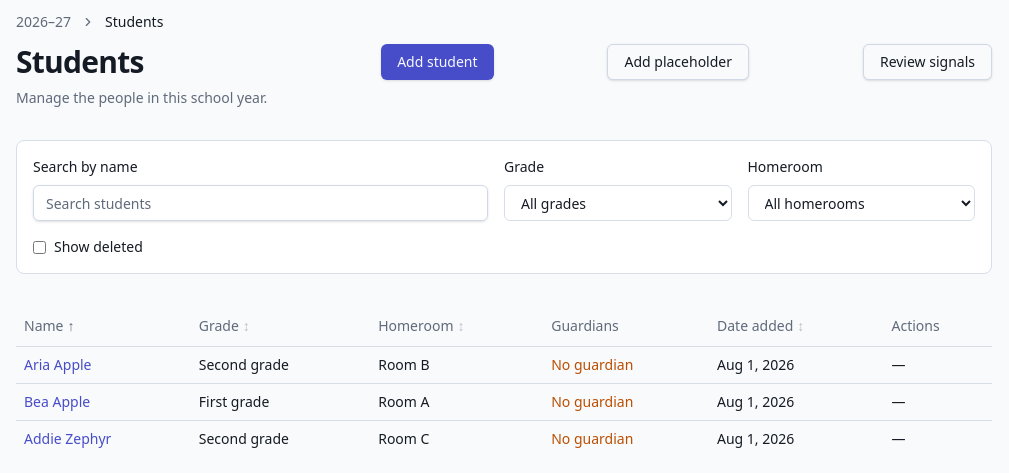
Test: people roster pages › filters students by search, grade, and homeroom
Expected: the table named "Students" is shown, [16,306,992,456]
Type "aria" into the field labelled "Search by name".
click(260, 203); type("aria")  # box [33,185,488,221]
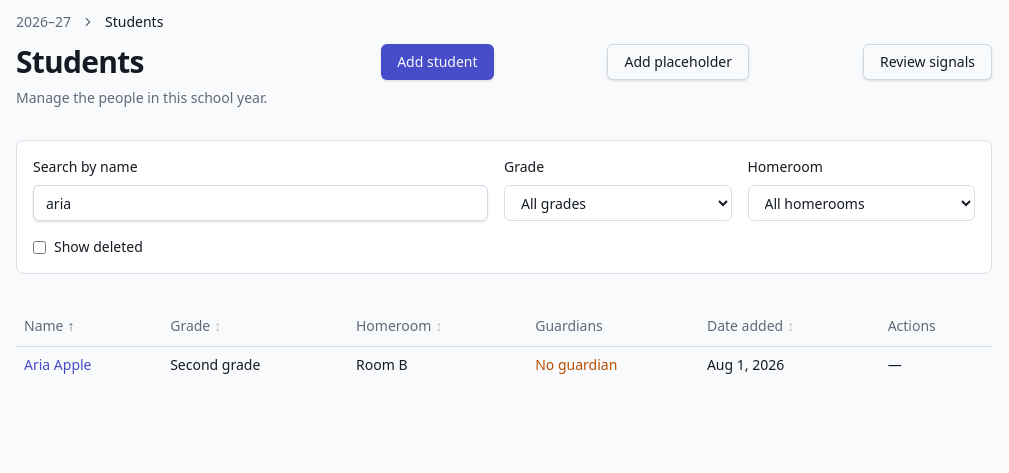
Expected: the link "Aria Apple" is shown, [24,354,92,374]
Expected: the link "Bea Apple" is gone
Clear the field labelled "Search by name" at (260, 203), box [33,185,488,221]
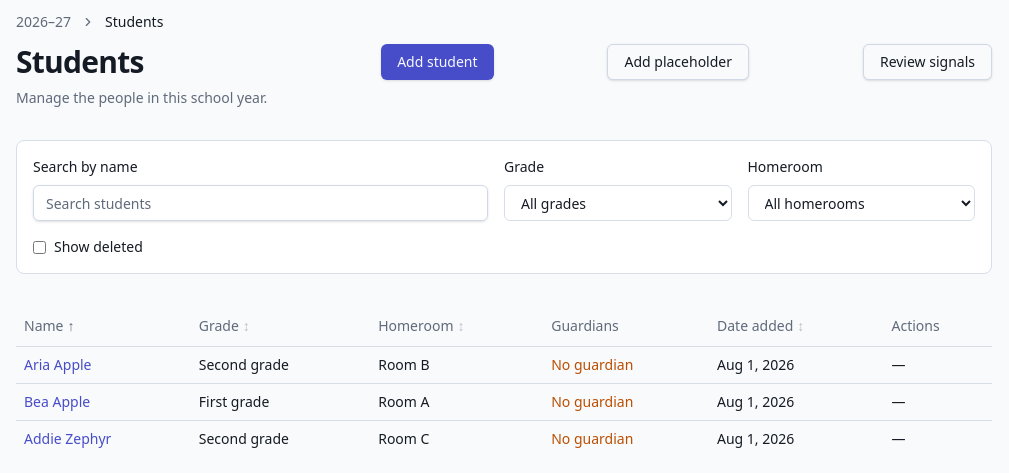
Select "Second grade" in the dropdown labelled "Grade" at (618, 203), box [504,185,732,221]
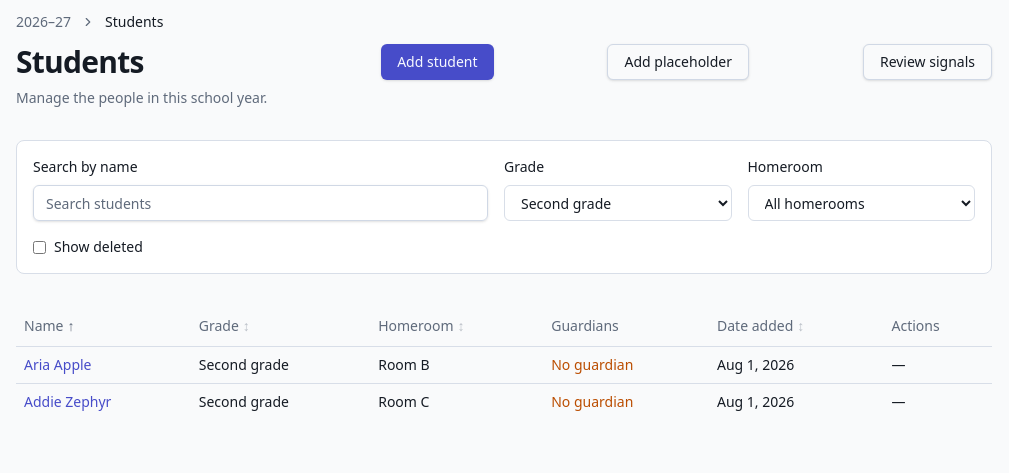
Select "Room C" in the dropdown labelled "Homeroom" at (861, 203), box [748,185,975,221]
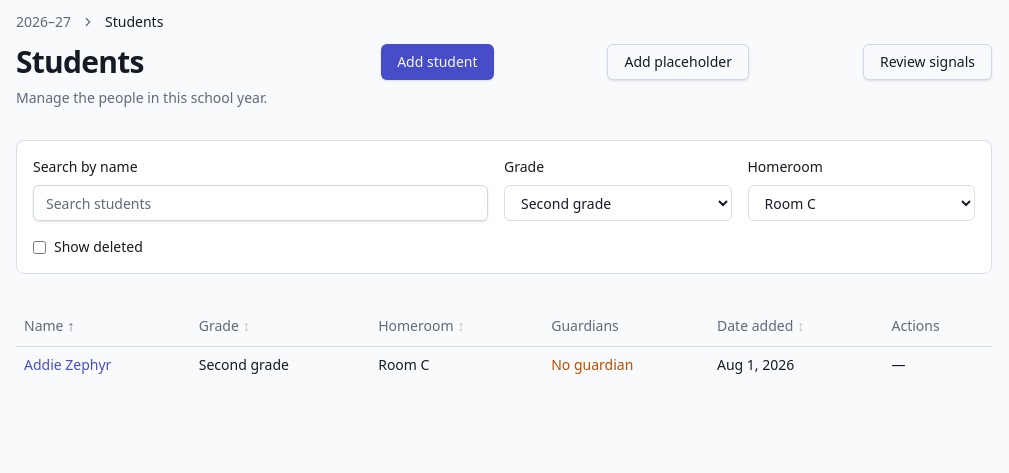
Expected: the link "Addie Zephyr" is shown, [24,354,111,374]
Expected: the link "Aria Apple" is gone
